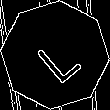L_NW: (27, 25, 83, 85)
